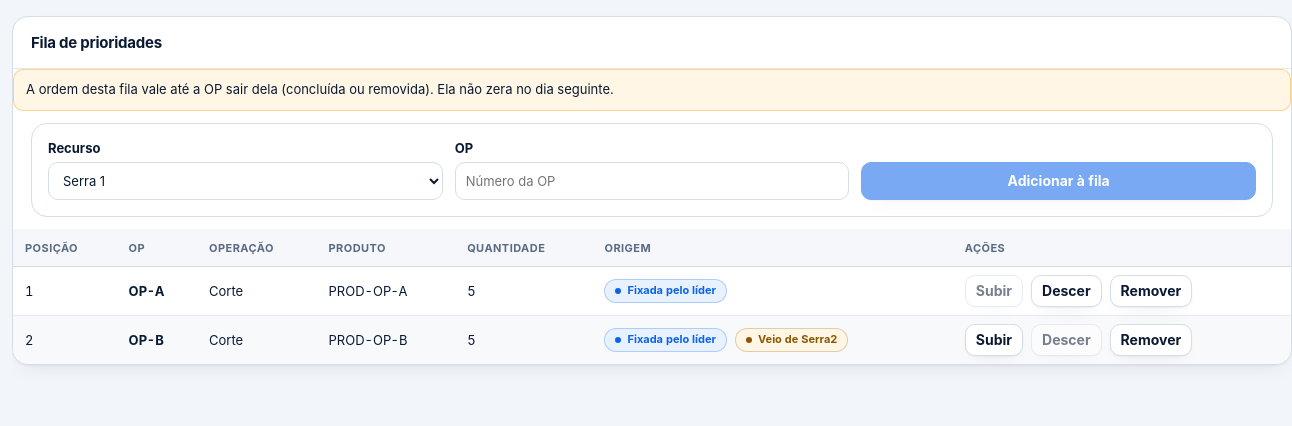
Test case: Fila de prioridades por recurso › recarrega a lista do servidor depois de um erro ao remover
Expected: the text "OP-A" is shown, [129,282,164,298]
What coordinates should you click on to do the following:
click the button with aria-label "Remover OP OP-A da fila"
I would click on:
 (1151, 290)
Its box is [1110,274,1192,306].
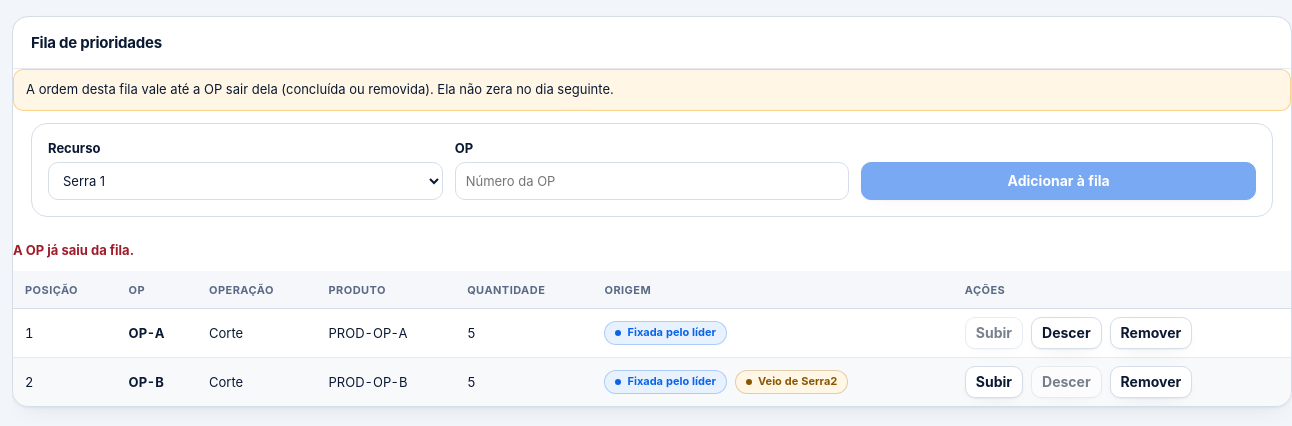
Expected: the message reads "A OP já saiu da fila.", [13,242,134,258]
